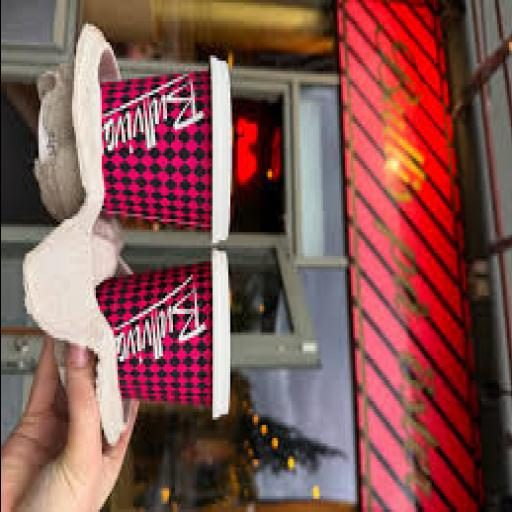red mug: (103, 61, 231, 238), (99, 264, 212, 404)
